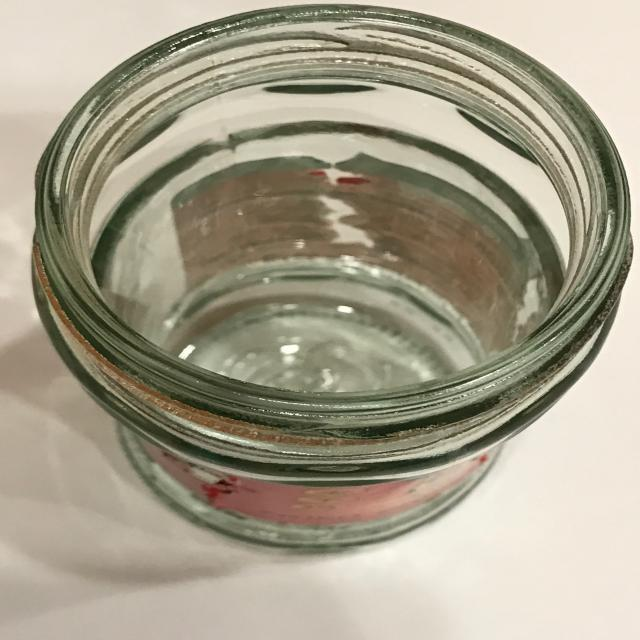glass: (33, 1, 640, 556)
